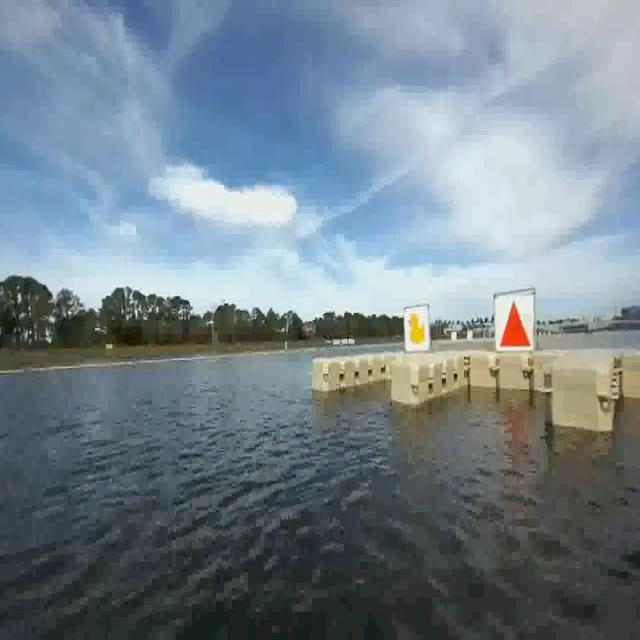red-dot: (498, 298, 530, 354)
yellow-duck: (408, 310, 426, 344)
